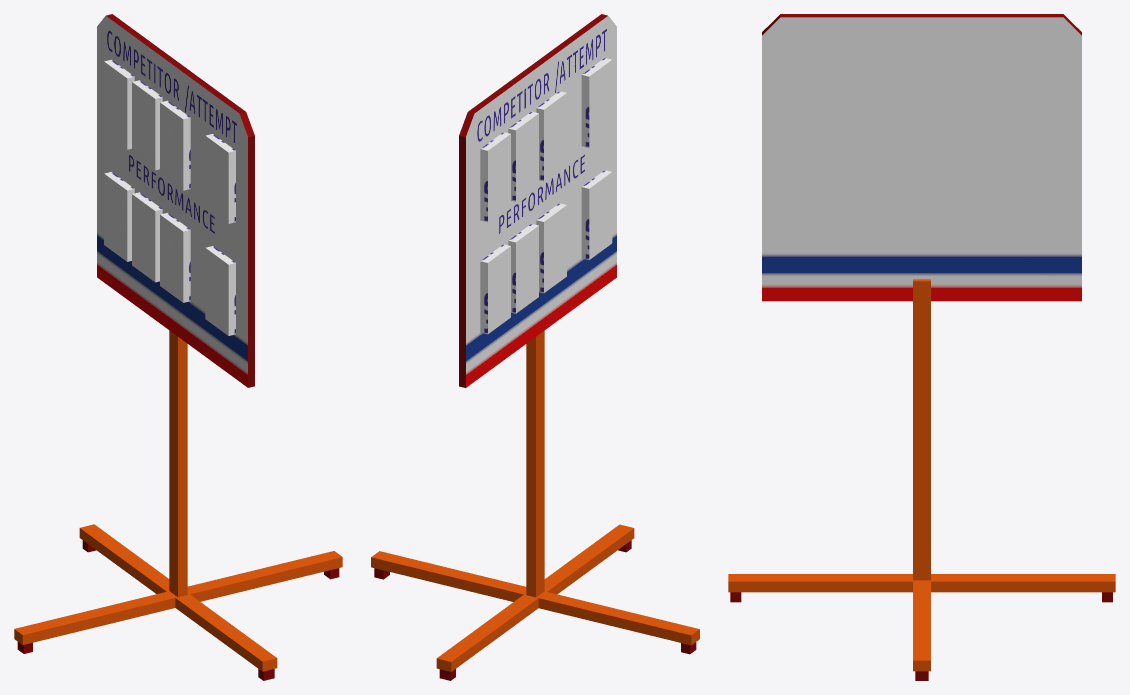
The model's file is Competitor_Performance.FBX.
The picture shows the model from 3 angles, left to right: view 1: azimuth 30°, elevation 25°; view 2: azimuth 150°, elevation 25°; view 3: azimuth 270°, elevation 25°; orthographic projection. The views are drawn at different scales.
Parts seen in each view (by area): view 1: Competitor_Performance; view 2: Competitor_Performance; view 3: Competitor_Performance.
Part boxes in pixels (x1,y1,x2,y2): Competitor_Performance: [14, 14, 342, 680]; Competitor_Performance: [371, 14, 699, 680]; Competitor_Performance: [728, 14, 1115, 680].
Bounding box in the file's own units: 12.14 × 19.94 × 12.01.
